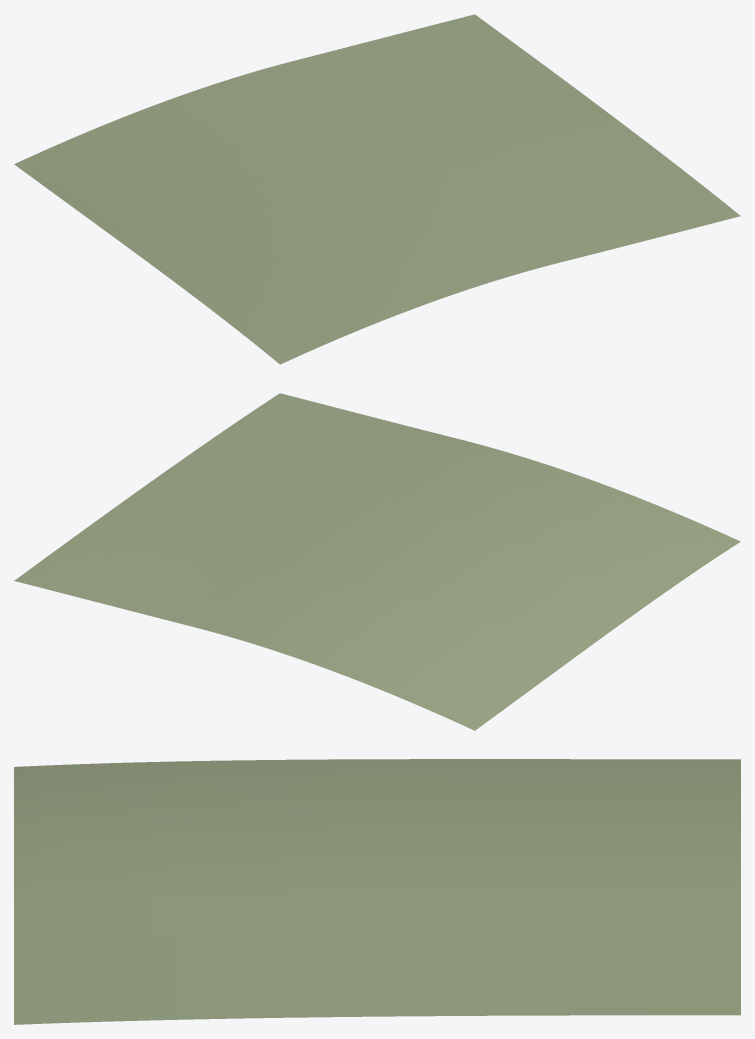
The model's file is desert-24-3.glb.
The picture shows the model from 3 angles, top to bottom: view 1: azimuth 30°, elevation 25°; view 2: azimuth 150°, elevation 25°; view 3: azimuth 270°, elevation 25°; orthographic projection. The views are drawn at different scales.
Parts seen in each view (by area): view 1: desert-24-3; view 2: desert-24-3; view 3: desert-24-3.
Boxes of the visible parts, x1,y1,x2,y2 form: desert-24-3: (14, 14, 740, 364); desert-24-3: (14, 393, 740, 730); desert-24-3: (14, 759, 740, 1024).
Size of the model in its own units: 512 by 45.74 by 512.
